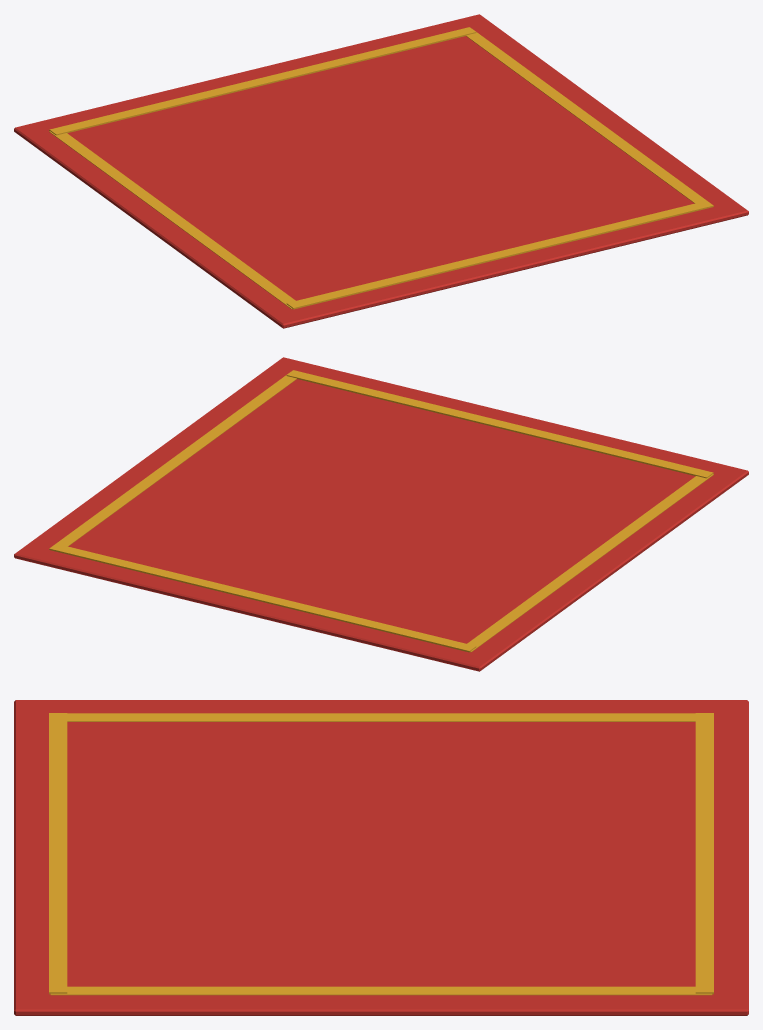
Rendered from carpet_tile.glb.
3 renders of one model, top to bottom at view 1: azimuth 30°, elevation 25°; view 2: azimuth 150°, elevation 25°; view 3: azimuth 270°, elevation 25°, orthographic. The views are drawn at different scales.
Parts seen in each view (by area): view 1: carpet_tile; view 2: carpet_tile; view 3: carpet_tile.
Boxes of the visible parts, left/top/right/bottom form: carpet_tile: left=14, top=14, right=748, bottom=328; carpet_tile: left=14, top=357, right=748, bottom=671; carpet_tile: left=14, top=700, right=748, bottom=1015.
Bounding box in the file's own units: 2 × 0.026 × 2.
